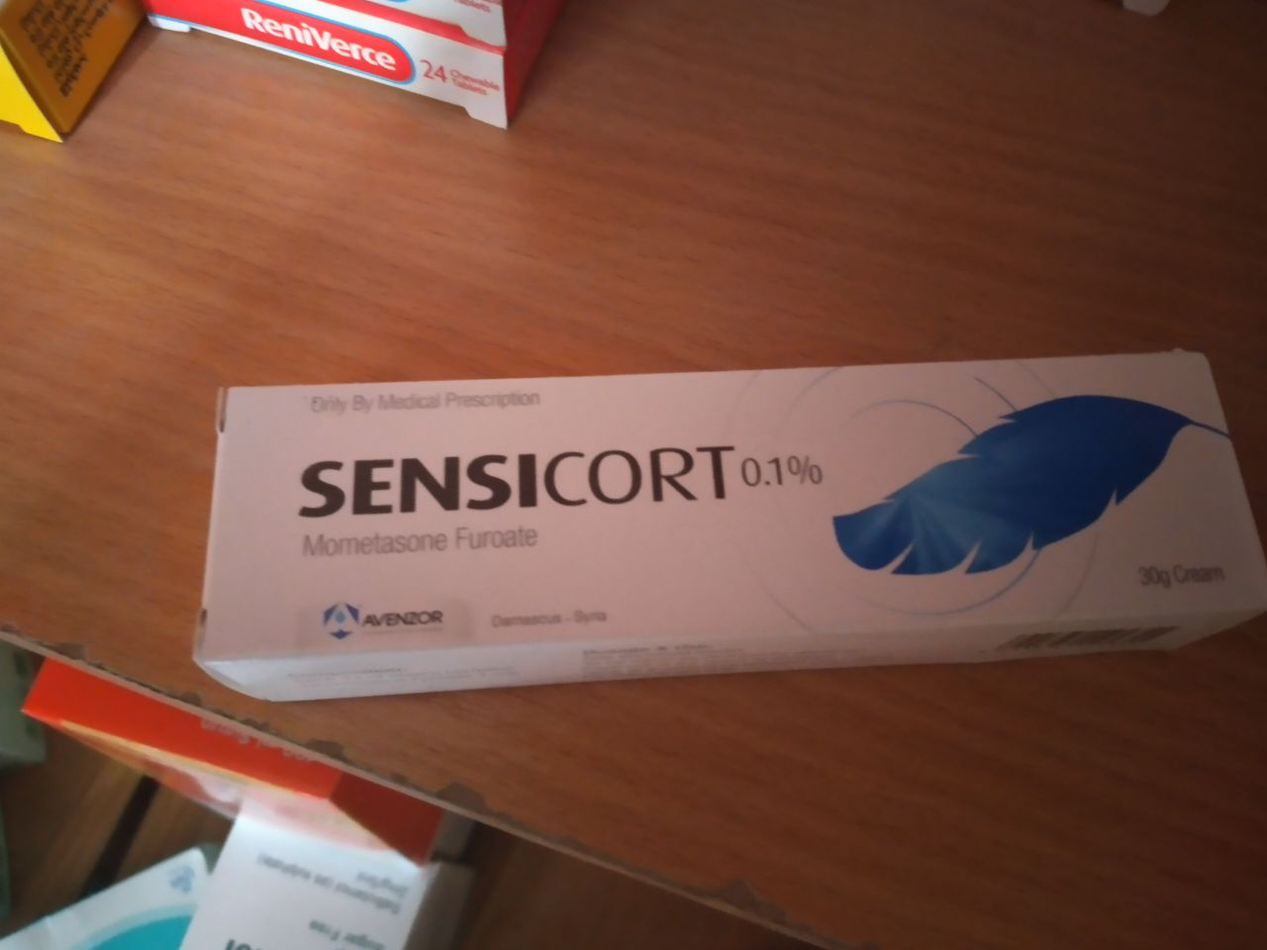Medicine: (195, 344, 1262, 683)
